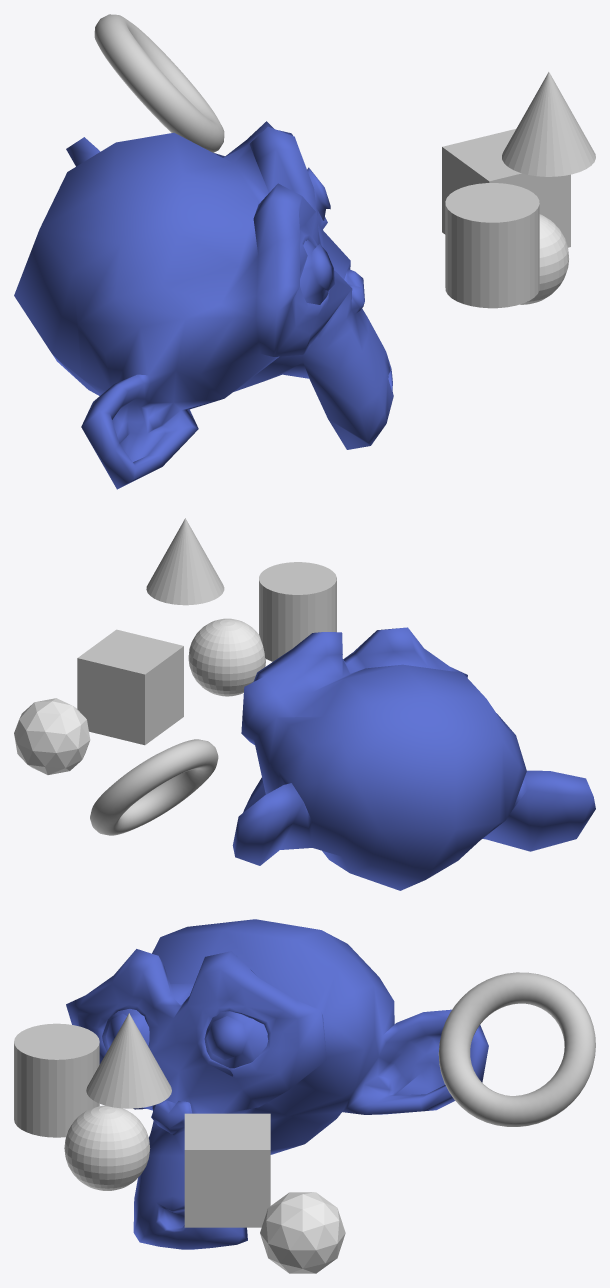
The picture shows the model from 3 angles, top to bottom: view 1: azimuth 30°, elevation 25°; view 2: azimuth 150°, elevation 25°; view 3: azimuth 270°, elevation 25°; orthographic projection. The views are drawn at different scales.
Parts seen in each view (by area): view 1: Suzanne, Cylinder, Torus, Cone, Cube, Sphere; view 2: Suzanne, Cube, Torus, Cylinder, Sphere, Icosphere, Cone; view 3: Suzanne, Torus, Cube, Cylinder, Sphere, Icosphere, Cone.
Boxes of the visible parts, bbox=[...] form: Suzanne: bbox=[14, 121, 393, 489]; Cylinder: bbox=[445, 183, 539, 308]; Torus: bbox=[94, 14, 224, 152]; Cone: bbox=[502, 72, 595, 176]; Cube: bbox=[442, 129, 570, 247]; Sphere: bbox=[520, 214, 568, 304]; Suzanne: bbox=[232, 627, 595, 890]; Cube: bbox=[77, 629, 183, 745]; Torus: bbox=[90, 739, 218, 835]; Cylinder: bbox=[259, 562, 336, 661]; Sphere: bbox=[188, 618, 266, 696]; Icosphere: bbox=[14, 698, 90, 774]; Cone: bbox=[146, 518, 224, 605]; Suzanne: bbox=[66, 919, 488, 1249]; Torus: bbox=[438, 972, 595, 1126]; Cube: bbox=[184, 1113, 270, 1227]; Cylinder: bbox=[14, 1023, 99, 1137]; Sphere: bbox=[64, 1105, 150, 1190]; Icosphere: bbox=[260, 1192, 345, 1273]; Cone: bbox=[86, 1013, 171, 1108].
Size of the model in its own units: 14.31 by 13.57 by 7.97.
